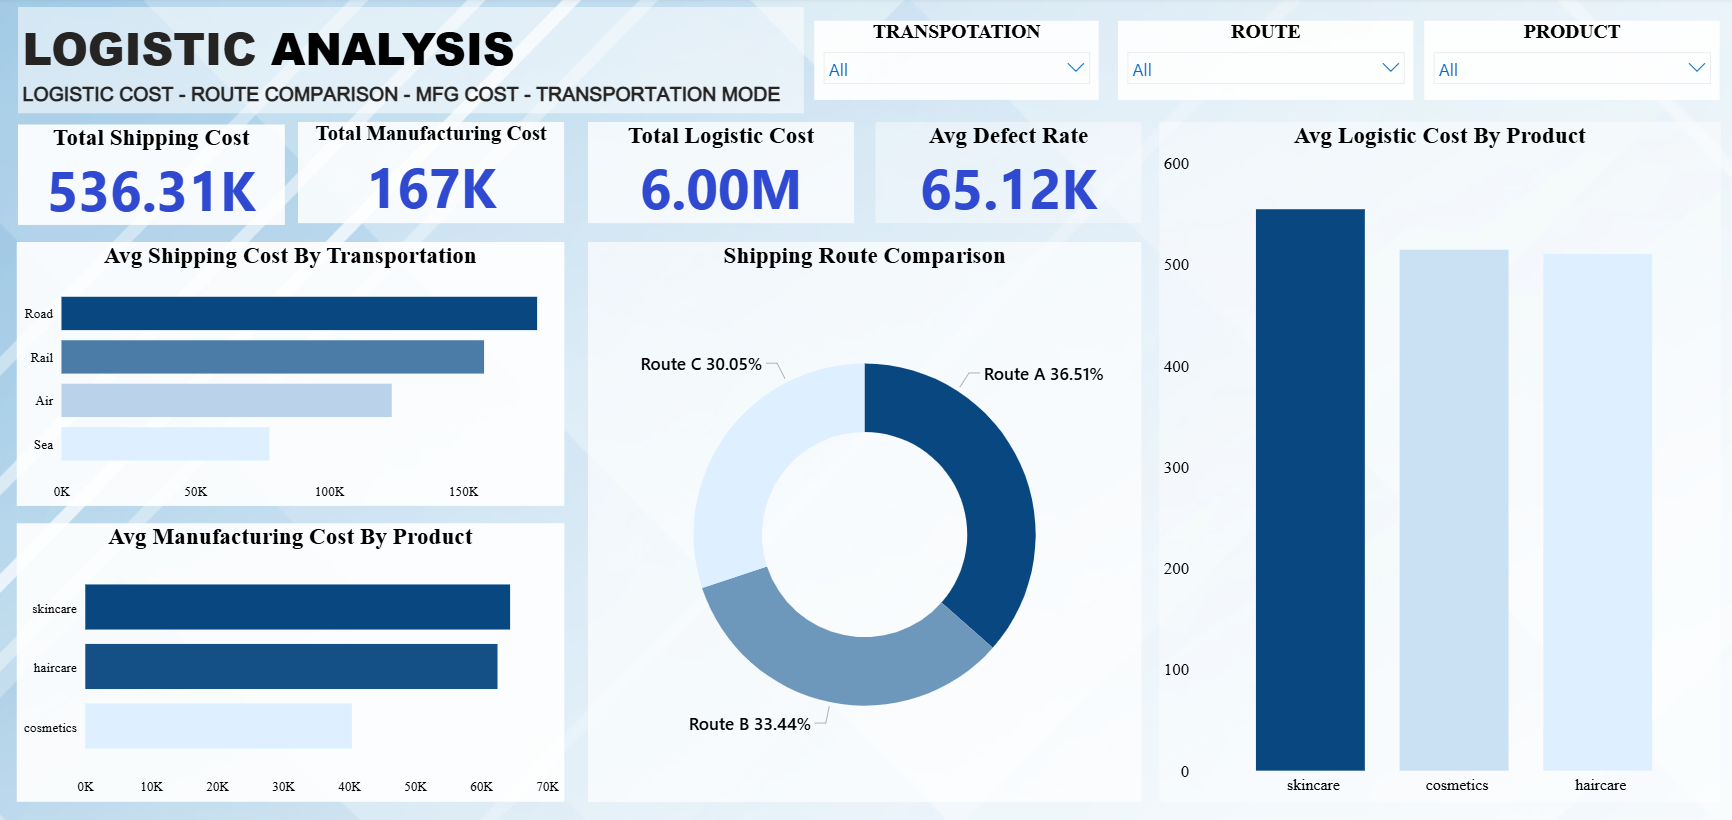

Layout of this report page (visuals, bound fields, positions):
{"tool":"powerbi","page":{"name":"LOGISTIC ANALYSIS","canvas":[1900,900],"ordinal":2},"visuals":[{"type":"card","title":"Total Shipping Cost","fields":{"Values":["Sum(logistics.SHIPPING_COST)"]},"box":[21.3,138.7,291.1,109.7],"z":0},{"type":"card","title":"Total Manufacturing Cost","fields":{"Values":["Sum(logistics.MANUFACTURING_COST)"]},"box":[327.4,136.4,290.6,110.5],"z":1000},{"type":"card","title":"Total Logistic Cost","fields":{"Values":["Sum(logistics.TOTAL_LOGISTICS_COST)"]},"box":[643.9,136.4,290.6,110.5],"z":2000},{"type":"card","title":"Avg Defect Rate","fields":{"Values":["Sum(logistics.DEFECT_RATE)"]},"box":[957.6,136.4,290.6,110.5],"z":3000},{"type":"columnChart","title":"Avg Logistic Cost By Product","fields":{"Y":["Avg(logistics.TOTAL_LOGISTICS_COST)"],"Category":["products.PRODUCT_TYPE"]},"box":[1267.3,136.4,612.5,742.1],"z":4000},{"type":"barChart","title":"Avg Shipping Cost By Transportation","fields":{"Y":["Sum(logistics.SHIPPING_COST)"],"Category":["routes.TRANSPORTATION_MODE"]},"box":[20.7,267.5,597.2,288.2],"z":5000},{"type":"barChart","title":"Avg Manufacturing Cost By Product","fields":{"Y":["Sum(logistics.MANUFACTURING_COST)"],"Category":["products.PRODUCT_TYPE"]},"box":[20.7,574.8,597.2,303.8],"z":6000},{"type":"donutChart","title":"Shipping Route Comparison","fields":{"Category":["routes.SHIPPING_ROUTE"],"Y":["Avg(logistics.SHIPPING_COST)"]},"box":[643.8,267.5,604.1,611],"z":7000},{"type":"textbox","box":[21.3,10.7,858,115.8],"z":8000},{"type":"slicer","title":"TRANSPOTATION","fields":{"Values":["routes.TRANSPORTATION_MODE"]},"box":[890.6,25.9,310.7,86.3],"z":9000},{"type":"slicer","title":"PRODUCT","fields":{"Values":["products.PRODUCT_TYPE"]},"box":[1556.9,25.9,322.8,86.3],"z":10000},{"type":"slicer","title":"ROUTE","fields":{"Values":["routes.SHIPPING_ROUTE"]},"box":[1222,25.9,322.8,86.3],"z":11000}]}

Visuals, with their boxes in screenshot pixels (x1, y1, x2, y2), scaled from the page's 1900x900 canvas onto the 1732x820 screenshot:
"Total Shipping Cost" card: [19, 126, 285, 226]
"Total Manufacturing Cost" card: [298, 124, 563, 225]
"Total Logistic Cost" card: [587, 124, 852, 225]
"Avg Defect Rate" card: [873, 124, 1138, 225]
"Avg Logistic Cost By Product" columnChart: [1155, 124, 1714, 800]
"Avg Shipping Cost By Transportation" barChart: [19, 244, 563, 506]
"Avg Manufacturing Cost By Product" barChart: [19, 524, 563, 801]
"Shipping Route Comparison" donutChart: [587, 244, 1138, 800]
textbox: [19, 10, 802, 115]
"TRANSPOTATION" slicer: [812, 24, 1095, 102]
"PRODUCT" slicer: [1419, 24, 1713, 102]
"ROUTE" slicer: [1114, 24, 1408, 102]
